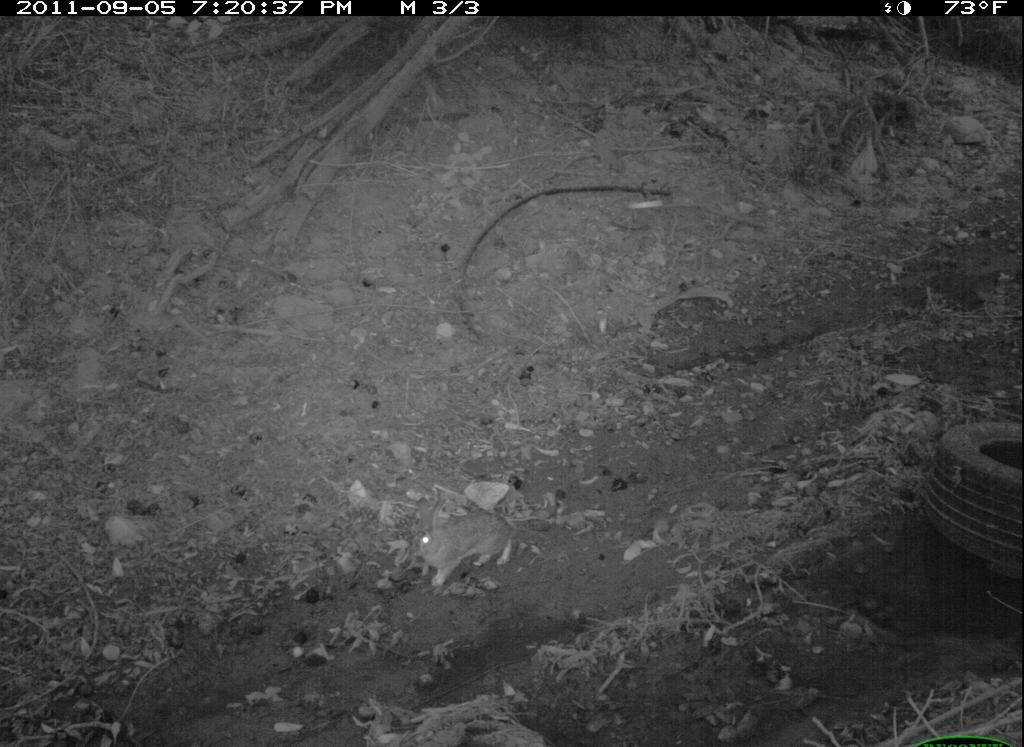rabbit: (376, 493, 551, 597)
